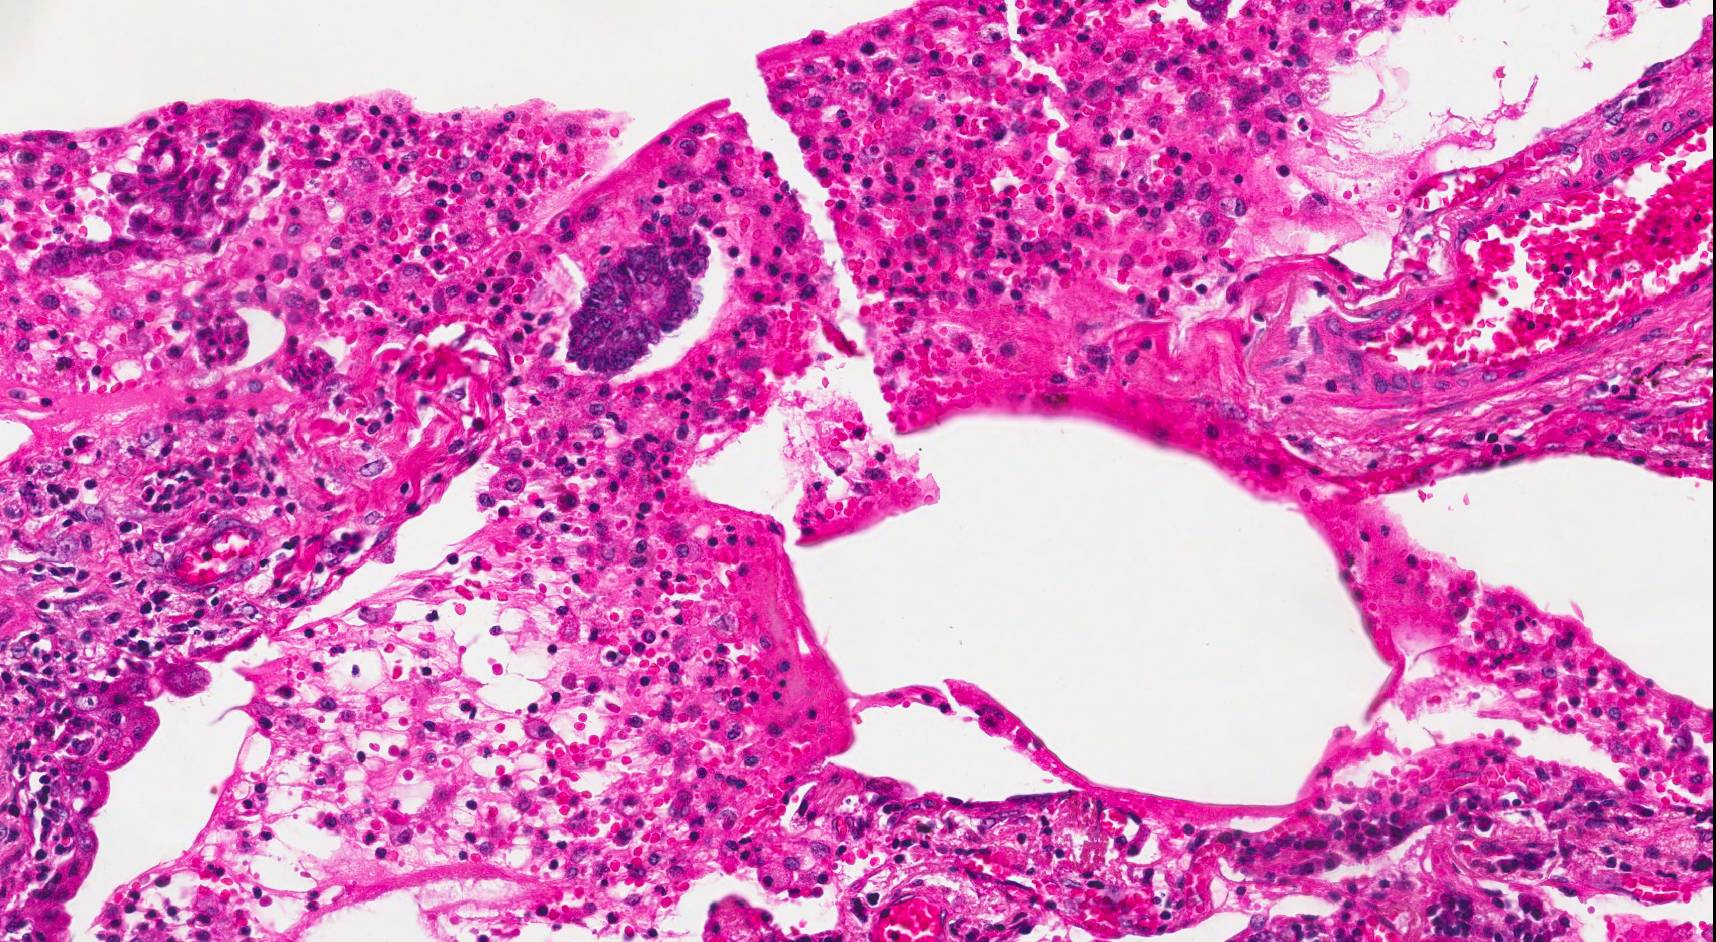stas: (565, 248, 714, 373)
